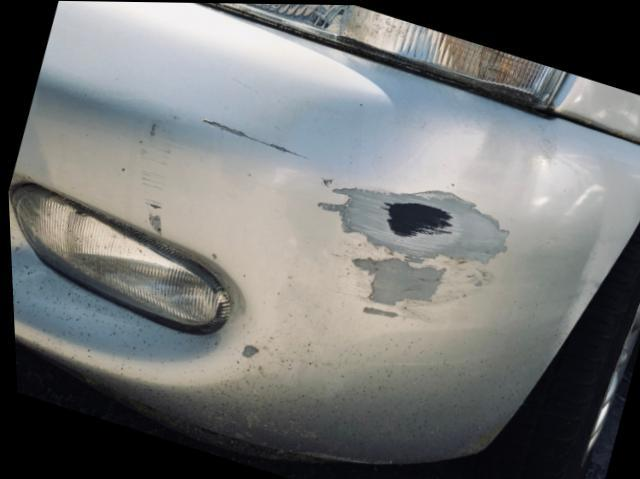rub: (309, 178, 513, 325)
scratch: (135, 105, 301, 240)
